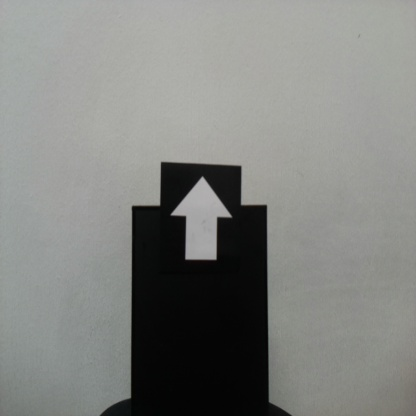id_1: (160, 163, 241, 279)
